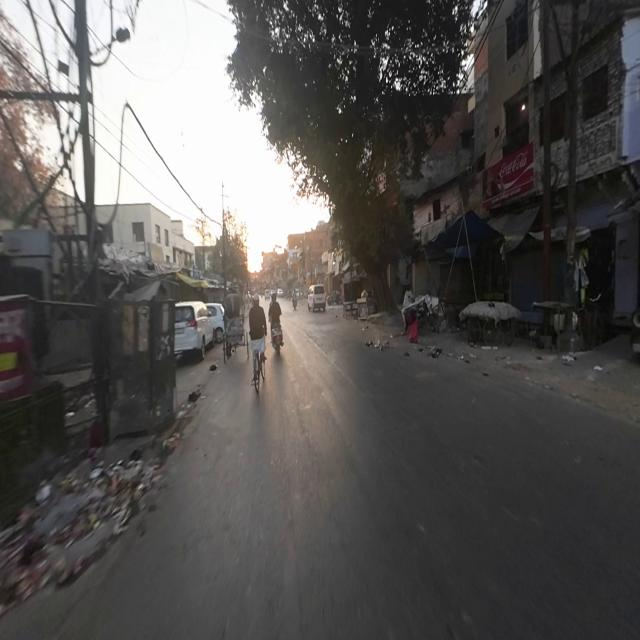Garbage: (2, 457, 151, 601)
